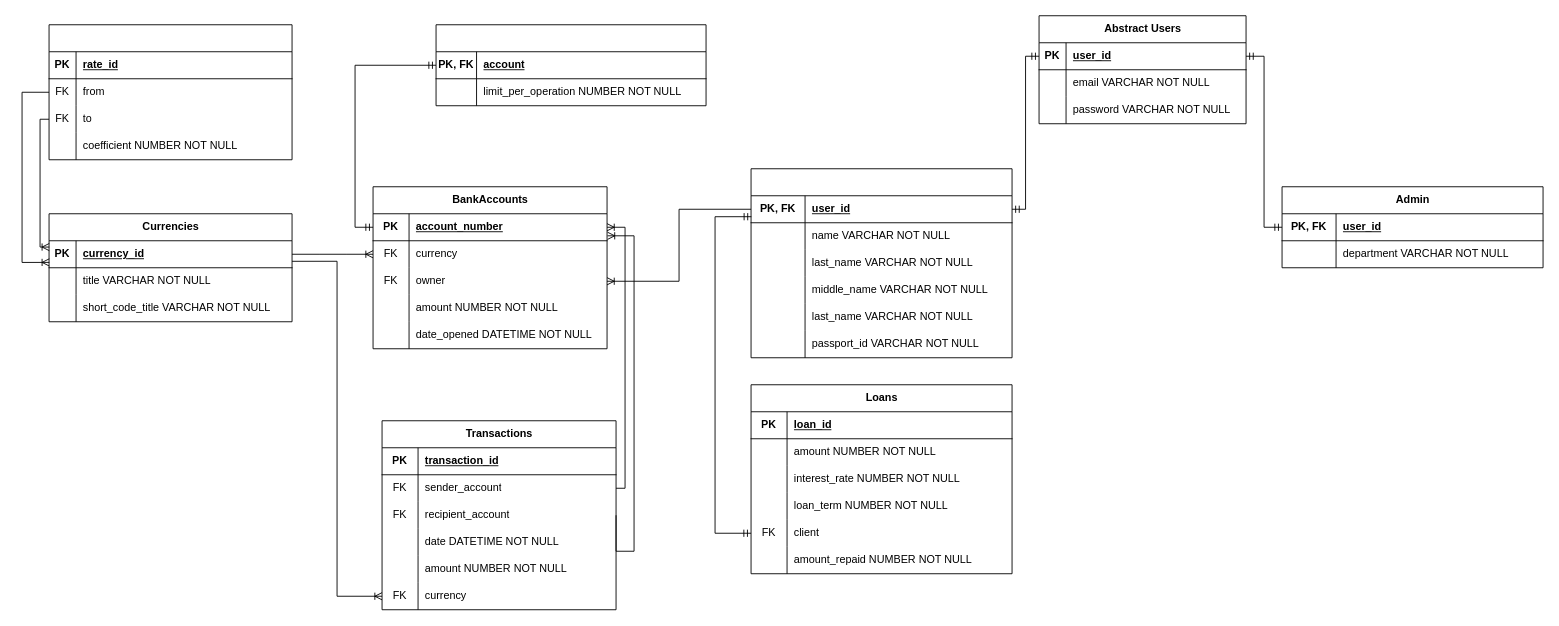
Image size: 1559x626. Some labels were removed from this diagram. The box of each missing label's shape, as (x1, y1, x2, y2) in pixels:
Clients: (750, 168, 1012, 358)
CurrencyRates: (48, 24, 292, 160)
Limits: (435, 24, 706, 106)
